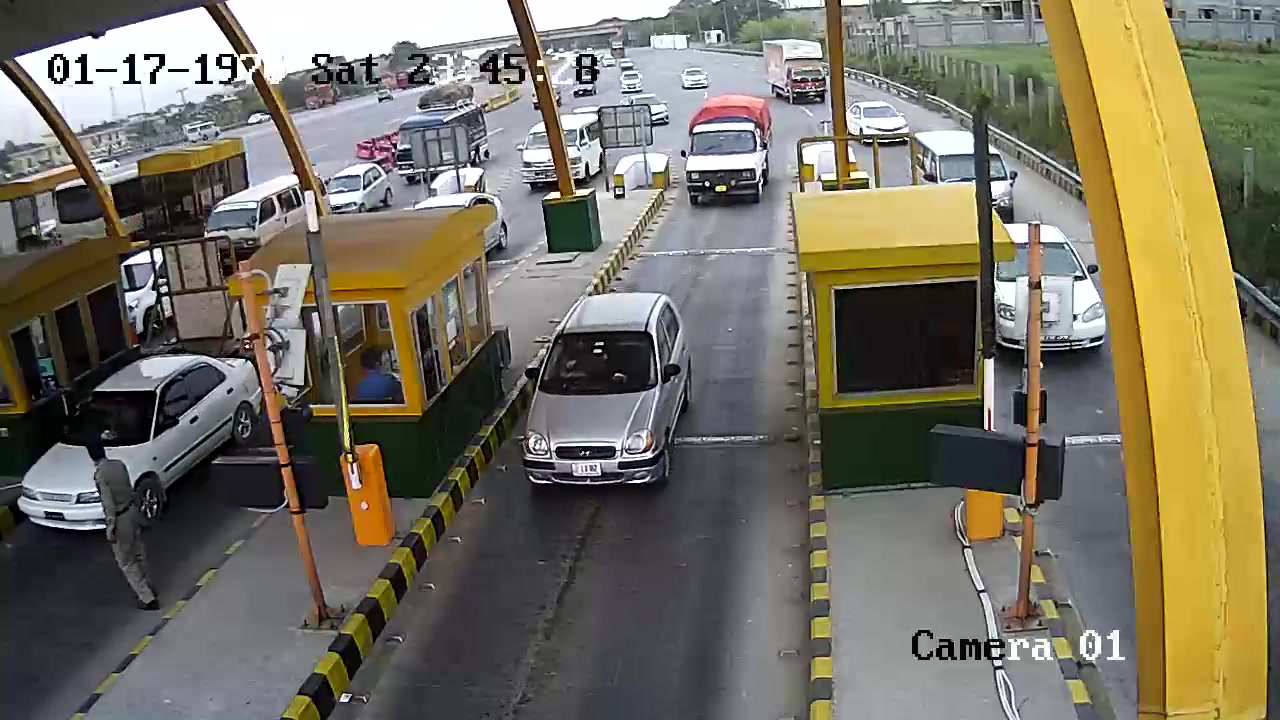F1: (519, 285, 701, 505)
